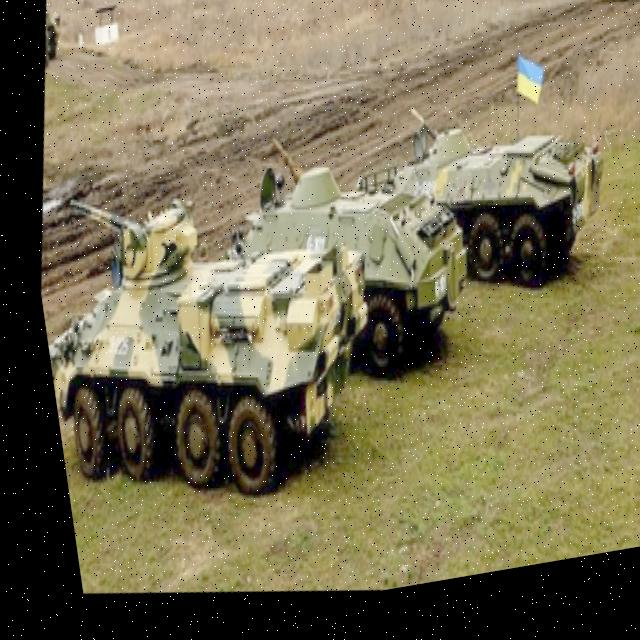MIL_APC: (19, 129, 393, 514), (209, 138, 495, 414), (362, 90, 634, 346)
